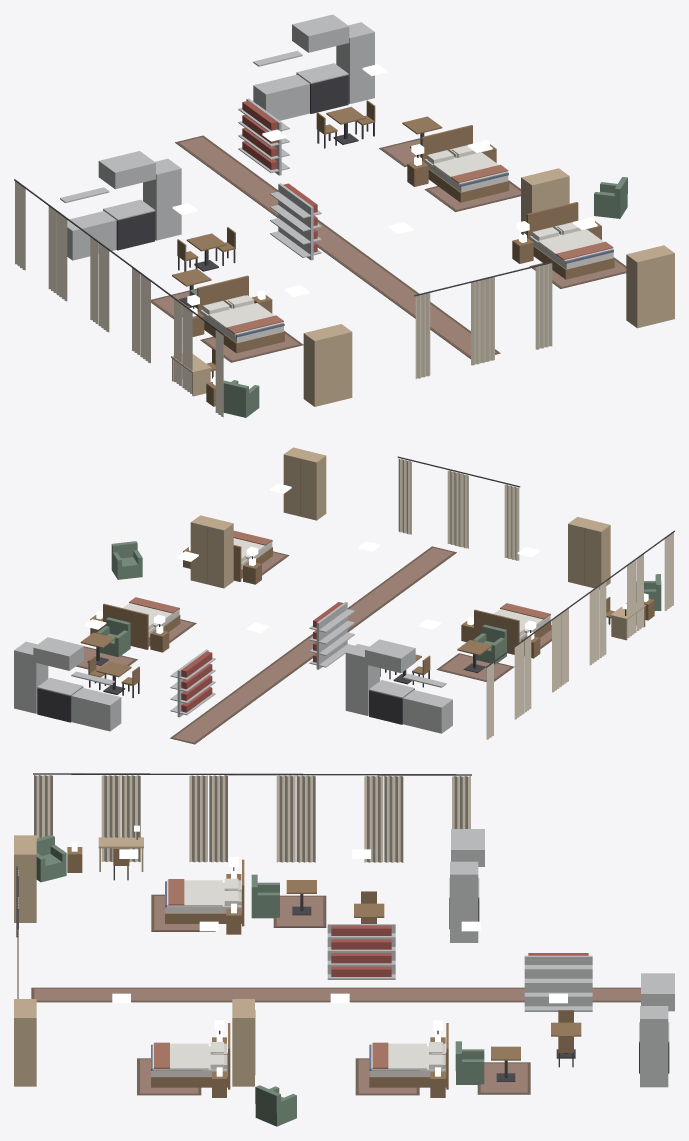
Rendered from fine-s1.glb.
3 renders of one model, top to bottom at view 1: azimuth 30°, elevation 25°; view 2: azimuth 150°, elevation 25°; view 3: azimuth 270°, elevation 25°, orthographic. The views are drawn at different scales.
Parts seen in each view (by area): view 1: soft-s1, dresser.000, dresser.002, range.000, range.001, shelving.000, bed-frame.001, bed-frame.002, bed-frame.000, shelving.001, kitchen-counter.001, fridge.000 (+8 smaller); view 2: soft-s1, dresser.002, dresser.001, dresser.000, range.001, range.000, shelving.000, kitchen-counter.001, kitchen-counter.000, shelving.001, fridge.000, fridge.001 (+11 smaller); view 3: soft-s1, shelving.000, shelving.001, fridge.001, fridge.000, dresser.001, dresser.002, dresser.000, bed-frame.001, bed-frame.002, bed-frame.000, lounge-chair.001 (+9 smaller).
Boxes of the visible parts, bbox=[...] form: soft-s1: bbox=[14, 135, 626, 417]; dresser.000: bbox=[303, 324, 352, 406]; dresser.002: bbox=[626, 245, 674, 328]; range.000: bbox=[98, 151, 155, 250]; range.001: bbox=[292, 14, 349, 113]; shelving.000: bbox=[270, 183, 321, 260]; bed-frame.001: bbox=[421, 125, 509, 202]; bed-frame.002: bbox=[526, 202, 614, 279]; bed-frame.000: bbox=[197, 275, 284, 353]; shelving.001: bbox=[238, 98, 289, 175]; kitchen-counter.001: bbox=[253, 51, 309, 120]; fridge.000: bbox=[143, 158, 181, 240]; soft-s1: bbox=[76, 456, 674, 744]; dresser.002: bbox=[283, 447, 326, 520]; dresser.001: bbox=[190, 515, 233, 588]; dresser.000: bbox=[568, 517, 610, 589]; range.001: bbox=[33, 637, 83, 722]; range.000: bbox=[365, 639, 415, 724]; shelving.000: bbox=[309, 601, 354, 669]; kitchen-counter.001: bbox=[71, 671, 121, 731]; kitchen-counter.000: bbox=[403, 674, 452, 733]; shelving.001: bbox=[170, 649, 215, 717]; fridge.000: bbox=[345, 644, 379, 715]; fridge.001: bbox=[14, 641, 48, 713]; soft-s1: bbox=[16, 773, 640, 1095]; shelving.000: bbox=[327, 924, 395, 979]; shelving.001: bbox=[524, 953, 592, 1011]; fridge.001: bbox=[640, 1006, 668, 1087]; fridge.000: bbox=[450, 861, 478, 942]; dresser.001: bbox=[232, 999, 255, 1086]; dresser.002: bbox=[14, 999, 36, 1086]; dresser.000: bbox=[14, 835, 36, 922]; bed-frame.001: bbox=[369, 1023, 448, 1089]; bed-frame.002: bbox=[151, 1023, 230, 1089]; bed-frame.000: bbox=[165, 859, 244, 926]; lounge-chair.001: bbox=[255, 1085, 296, 1126].
Size of the model in its own units: 16.57 by 2.61 by 17.5.
